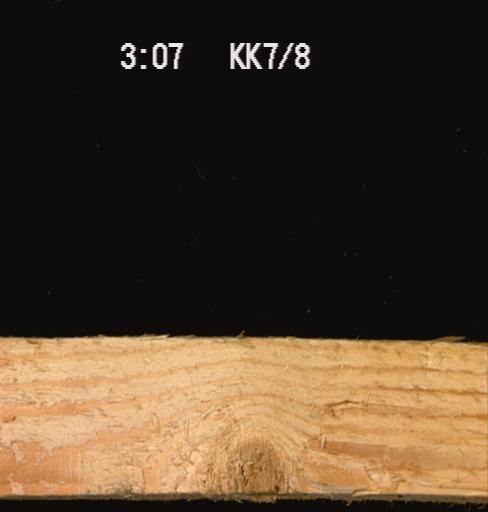edge_knot: (205, 439, 289, 506)
wave: (304, 478, 392, 504)
